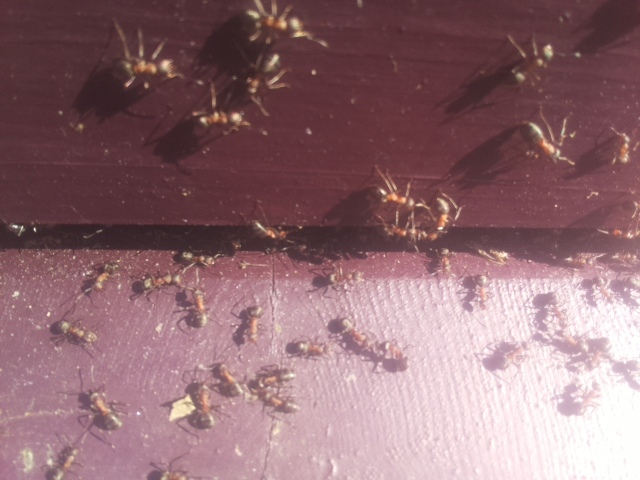ant: (112, 46, 183, 96), (503, 35, 563, 91), (512, 115, 570, 168), (80, 383, 132, 439), (322, 311, 384, 354), (239, 48, 287, 98), (185, 100, 253, 135), (37, 439, 87, 480), (44, 316, 103, 350), (78, 257, 123, 301), (365, 178, 421, 213), (122, 270, 183, 302), (242, 217, 301, 249), (188, 377, 221, 433), (209, 360, 254, 401), (424, 191, 458, 244), (247, 386, 307, 416), (172, 248, 221, 270), (240, 299, 262, 347), (382, 336, 408, 376), (188, 287, 210, 327), (140, 462, 188, 480), (612, 130, 633, 169), (469, 273, 489, 307), (434, 248, 455, 277)
